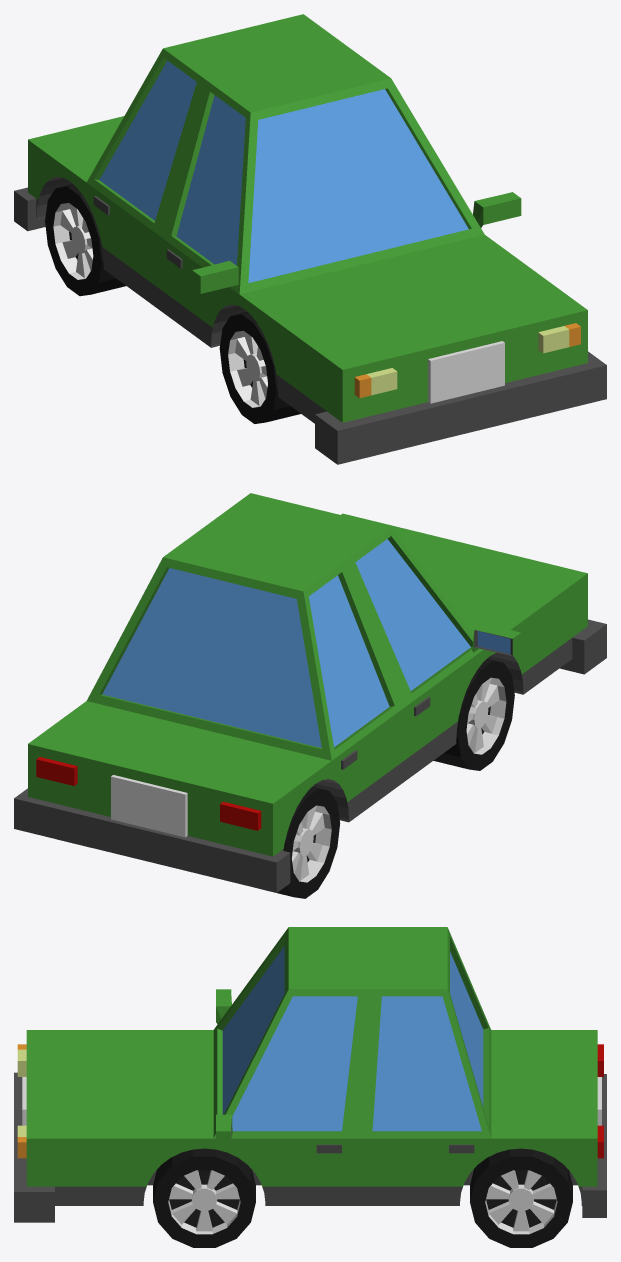
Rendered from car0424.glb.
3 renders of one model, top to bottom at view 1: azimuth 30°, elevation 25°; view 2: azimuth 150°, elevation 25°; view 3: azimuth 270°, elevation 25°, orthographic. The views are drawn at different scales.
Parts seen in each view (by area): view 1: car.003, bk wheels.003, fr wheels.003, Cube.003, mirriors.003, lights.003; view 2: car.003, fr wheels.003, bk wheels.003, Cube.003, bk lights.003, mirriors.003; view 3: car.003, fr wheels.003, bk wheels.003, mirriors.003, lights.003, Cube.002, Cube.003, bk lights.003.
Part boxes in pixels (left/top/right/bottom): car.003: left=14, top=14, right=606, bottom=464; bk wheels.003: left=45, top=184, right=125, bottom=296; fr wheels.003: left=219, top=312, right=300, bottom=423; Cube.003: left=428, top=341, right=504, bottom=403; mirriors.003: left=192, top=192, right=521, bottom=293; lights.003: left=354, top=323, right=580, bottom=398; car.003: left=14, top=493, right=606, bottom=892; fr wheels.003: left=433, top=659, right=514, bottom=770; bk wheels.003: left=277, top=786, right=340, bottom=898; Cube.003: left=111, top=775, right=187, bottom=837; bk lights.003: left=36, top=757, right=261, bottom=830; mirriors.003: left=472, top=623, right=521, bottom=656; car.003: left=14, top=927, right=606, bottom=1222; fr wheels.003: left=153, top=1148, right=255, bottom=1247; bk wheels.003: left=470, top=1148, right=572, bottom=1247; mirriors.003: left=216, top=989, right=232, bottom=1147; lights.003: left=17, top=1044, right=26, bottom=1158; Cube.002: left=316, top=1144, right=474, bottom=1153; Cube.003: left=22, top=1077, right=601, bottom=1125; bk lights.003: left=597, top=1044, right=603, bottom=1158.
Bounding box in the file's own units: 4.34 × 3.38 × 7.67.
